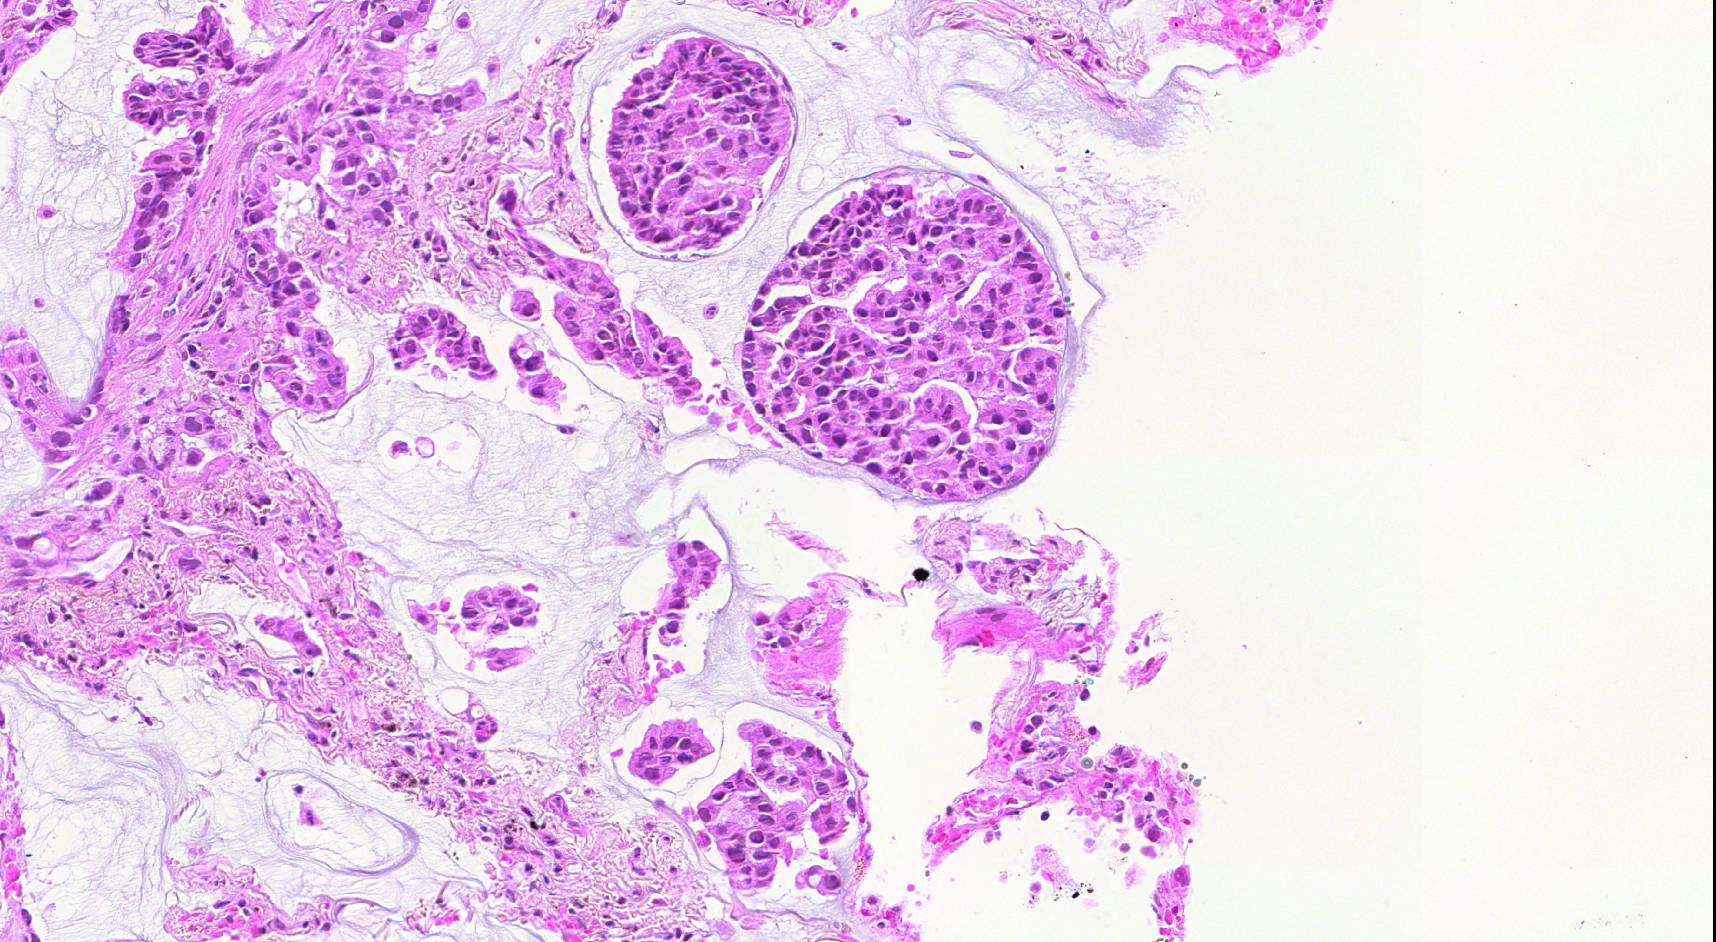stas: (739, 170, 1069, 502), (603, 39, 798, 251), (698, 720, 846, 894), (412, 572, 543, 673), (383, 303, 496, 382), (649, 534, 720, 654), (624, 715, 723, 784), (505, 329, 566, 409)
